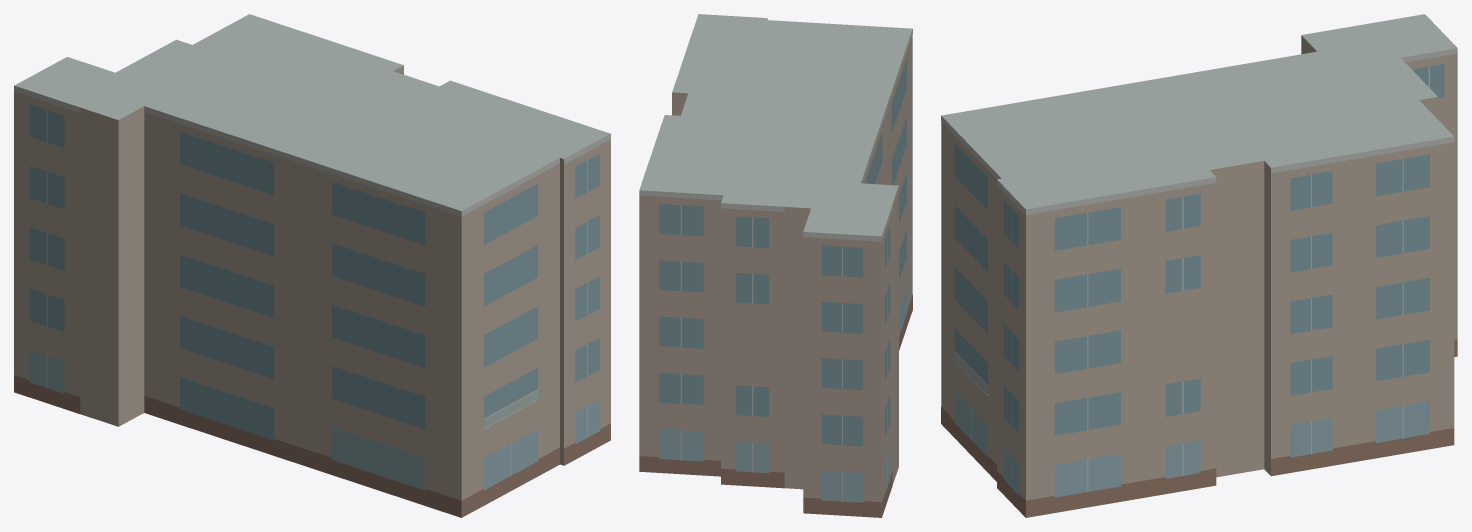
The model's file is survey-upis-32610115.glb.
3 renders of one model, left to right at view 1: azimuth 30°, elevation 25°; view 2: azimuth 150°, elevation 25°; view 3: azimuth 270°, elevation 25°, orthographic. The views are drawn at different scales.
Visible parts, largest first — view 1: survey-upis-32610115.tmp; view 2: survey-upis-32610115.tmp; view 3: survey-upis-32610115.tmp.
Part boxes in pixels (x1=…): survey-upis-32610115.tmp: x1=14, y1=14, x2=610, y2=517; survey-upis-32610115.tmp: x1=639, y1=14, x2=912, y2=517; survey-upis-32610115.tmp: x1=941, y1=14, x2=1457, y2=517.
Bounding box in the file's own units: 18.08 × 13.3 × 20.2.
